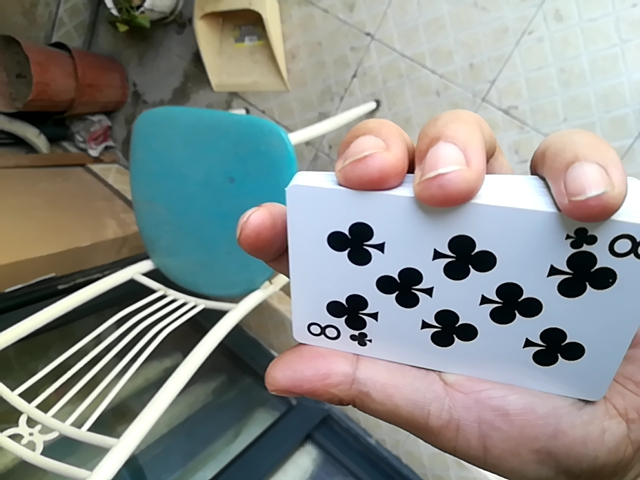mh 8: (275, 166, 631, 407)
